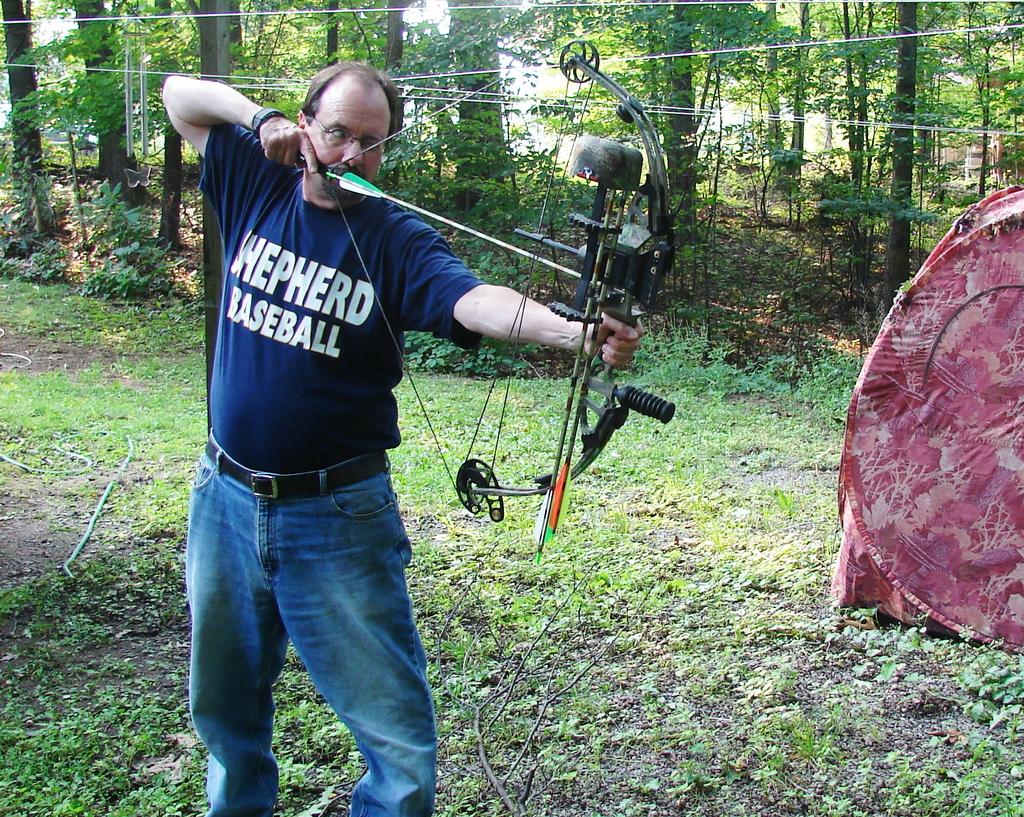Tree: (0, 0, 1024, 349)
